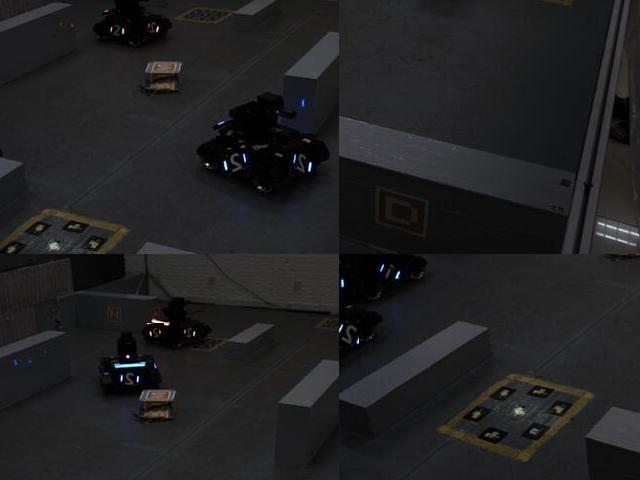armor: (221, 148, 250, 178), (378, 259, 407, 288), (289, 151, 317, 178), (339, 320, 361, 348), (116, 371, 145, 389), (107, 20, 129, 39), (145, 19, 165, 38), (148, 324, 166, 343), (182, 323, 200, 341)
